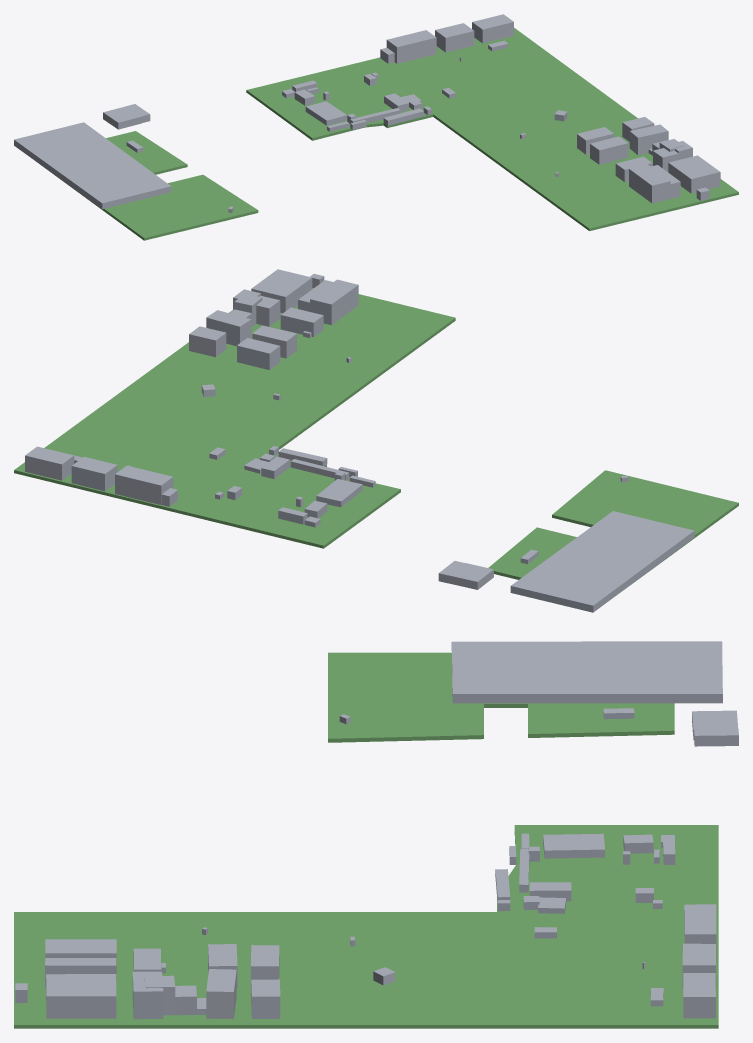
Rendered from SM_Blockout_Fondale.fbx.
The picture shows the model from 3 angles, top to bottom: view 1: azimuth 30°, elevation 25°; view 2: azimuth 150°, elevation 25°; view 3: azimuth 270°, elevation 25°; orthographic projection. The views are drawn at different scales.
Parts seen in each view (by area): view 1: SM_Blockout_Fondale_Terreno, SM_Blockout_Fondale_Edifici; view 2: SM_Blockout_Fondale_Terreno, SM_Blockout_Fondale_Edifici; view 3: SM_Blockout_Fondale_Terreno, SM_Blockout_Fondale_Edifici.
Boxes of the visible parts, x1,y1,x2,y2 form: SM_Blockout_Fondale_Terreno: [41, 28, 738, 240]; SM_Blockout_Fondale_Edifici: [14, 14, 720, 212]; SM_Blockout_Fondale_Terreno: [14, 288, 738, 585]; SM_Blockout_Fondale_Edifici: [25, 269, 694, 612]; SM_Blockout_Fondale_Terreno: [14, 652, 718, 1028]; SM_Blockout_Fondale_Edifici: [15, 641, 738, 1019].
Size of what is drawn, in the model's own units: 60341 by 49388 by 2431.
